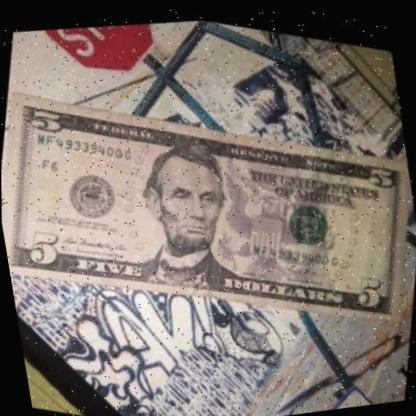five-front: (0, 28, 416, 385)
